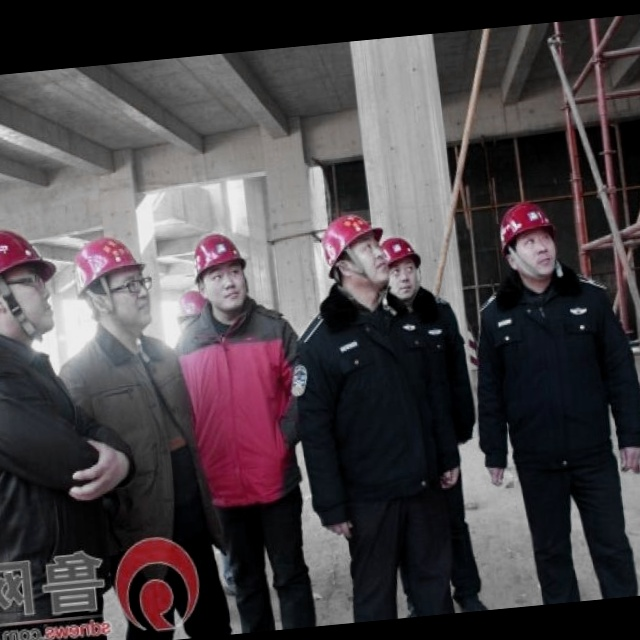Con_Casco: (188, 231, 252, 315), (500, 199, 560, 280)
Sin_Chaleco: (295, 295, 446, 511), (488, 280, 617, 470)
